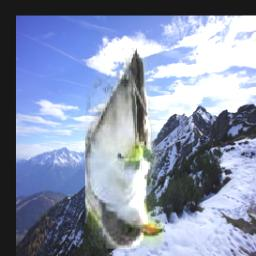Cuckoo: (85, 48, 164, 249)
